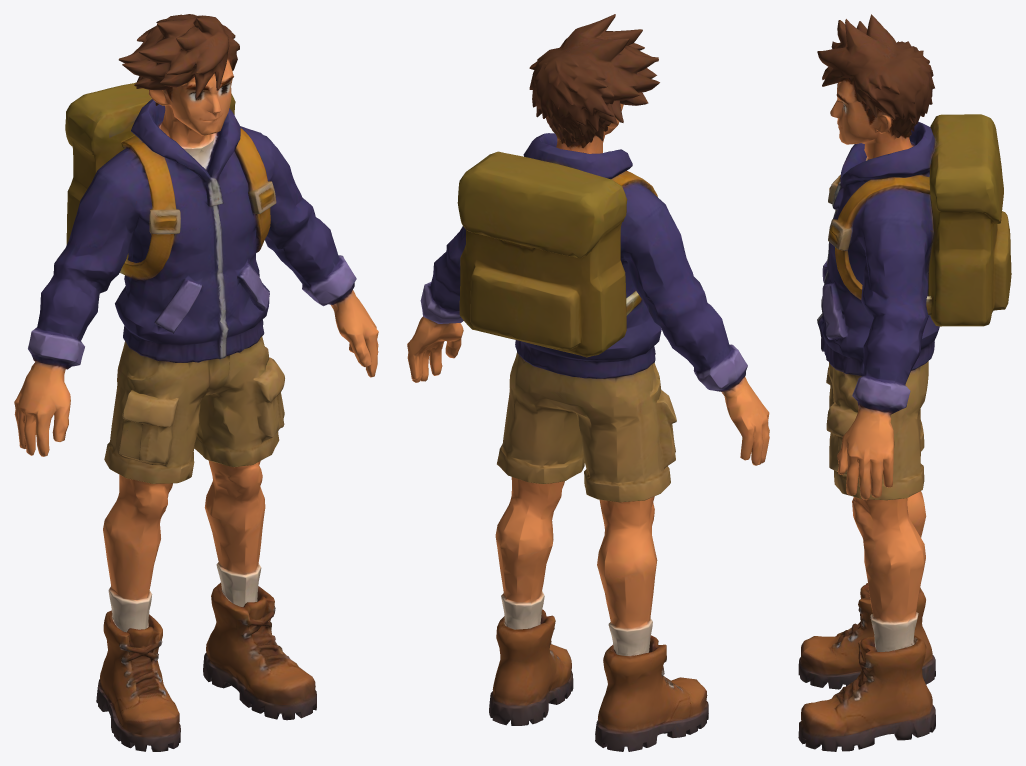
Rendered from tripo_convert_47cfb76e-5797-4409-9927-994e2c954c4b.glb.
The picture shows the model from 3 angles, left to right: view 1: azimuth 30°, elevation 25°; view 2: azimuth 150°, elevation 25°; view 3: azimuth 270°, elevation 25°; orthographic projection. The views are drawn at different scales.
Parts seen in each view (by area): view 1: tripo_node_47cfb76e-5797-4409-9927-994e2c954c4b; view 2: tripo_node_47cfb76e-5797-4409-9927-994e2c954c4b; view 3: tripo_node_47cfb76e-5797-4409-9927-994e2c954c4b.
Part boxes in pixels (left/top/right/bottom): tripo_node_47cfb76e-5797-4409-9927-994e2c954c4b: left=14, top=14, right=378, bottom=751; tripo_node_47cfb76e-5797-4409-9927-994e2c954c4b: left=407, top=14, right=769, bottom=751; tripo_node_47cfb76e-5797-4409-9927-994e2c954c4b: left=798, top=14, right=1011, bottom=751.
Size of the model in its own units: 0.5258 by 1 by 0.2824.
1 material, 1 textured.
